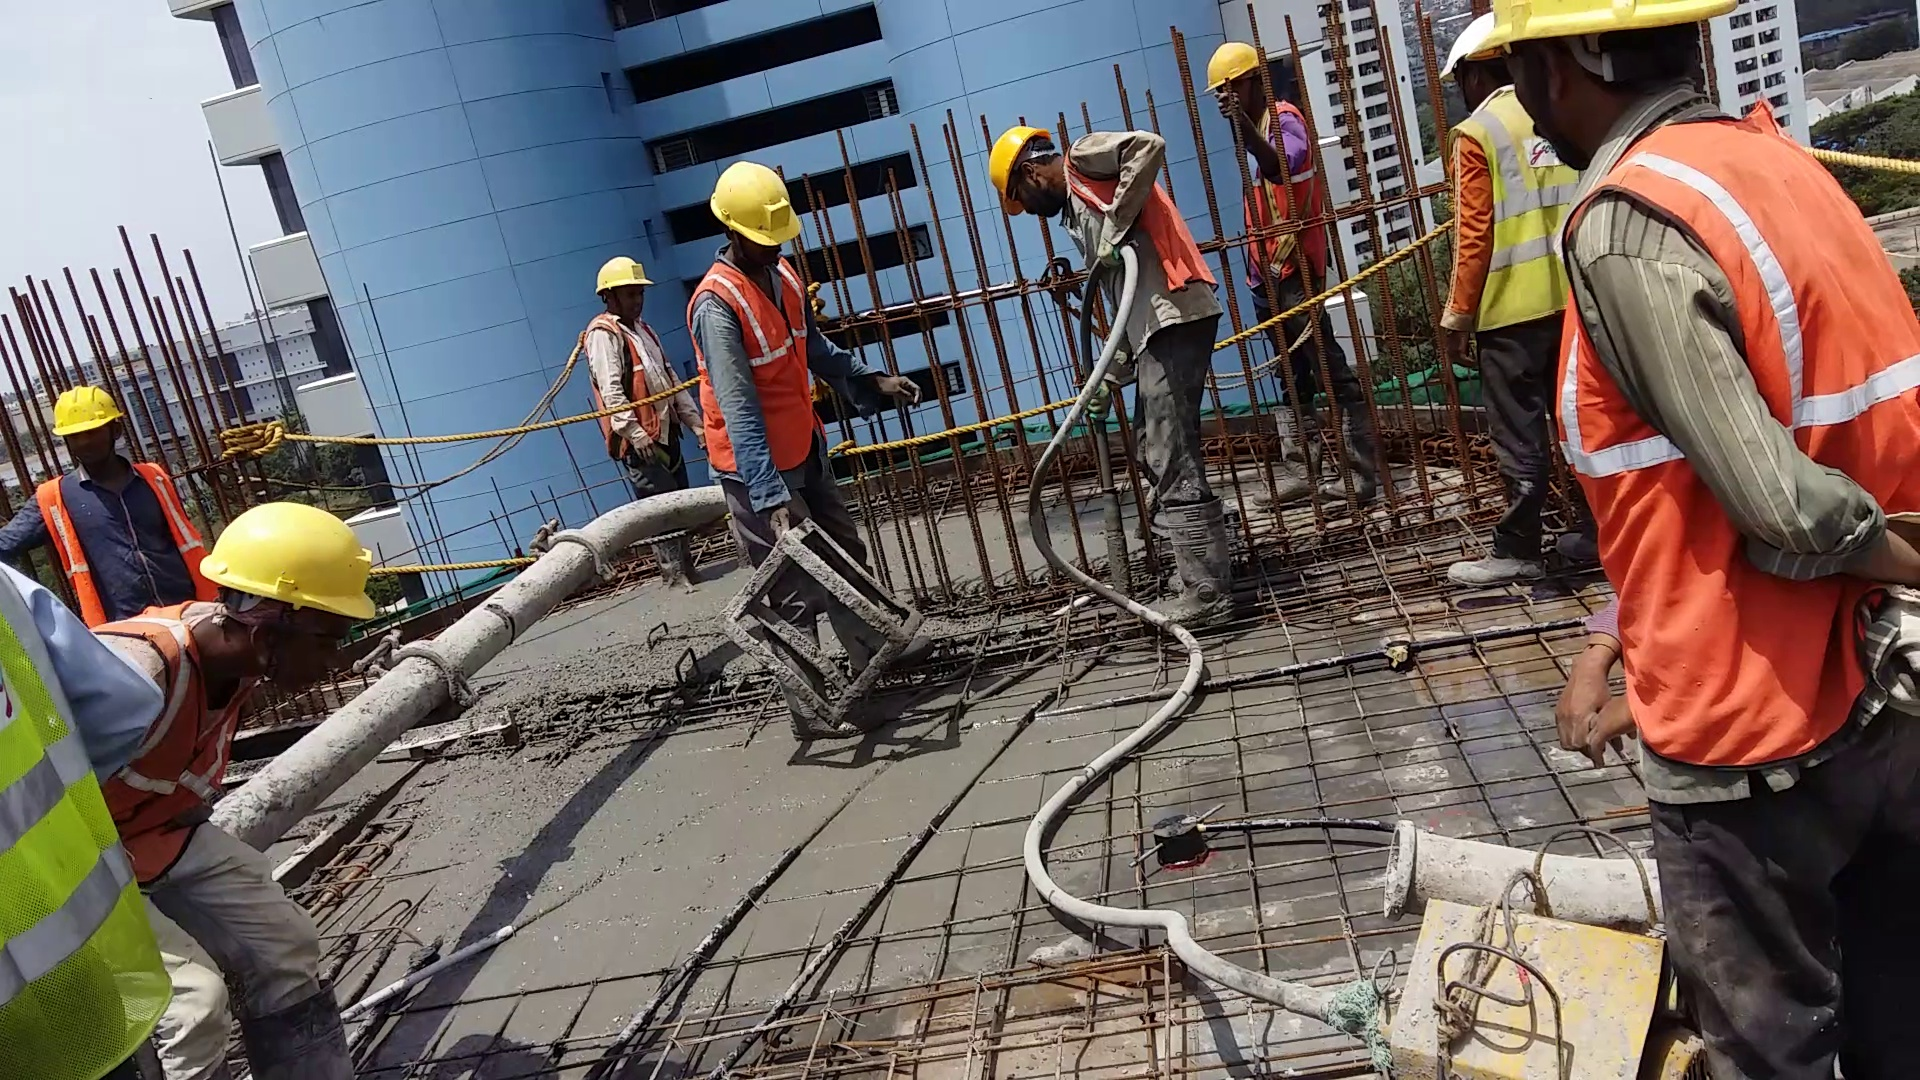SAFE: (1542, 7, 1920, 761), (116, 505, 375, 856), (996, 121, 1215, 347), (695, 161, 823, 483), (40, 384, 186, 607), (1453, 11, 1545, 351), (579, 255, 679, 451)
